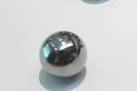ironball: (36, 28, 91, 83)
